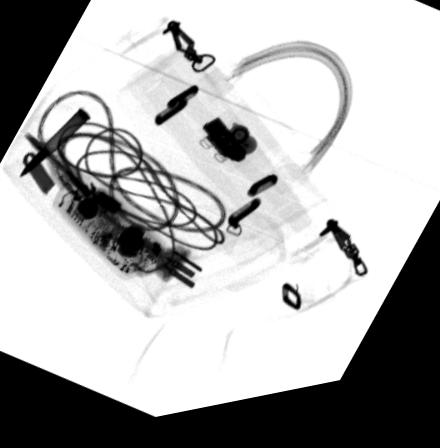Bullet: (17, 107, 91, 178)
